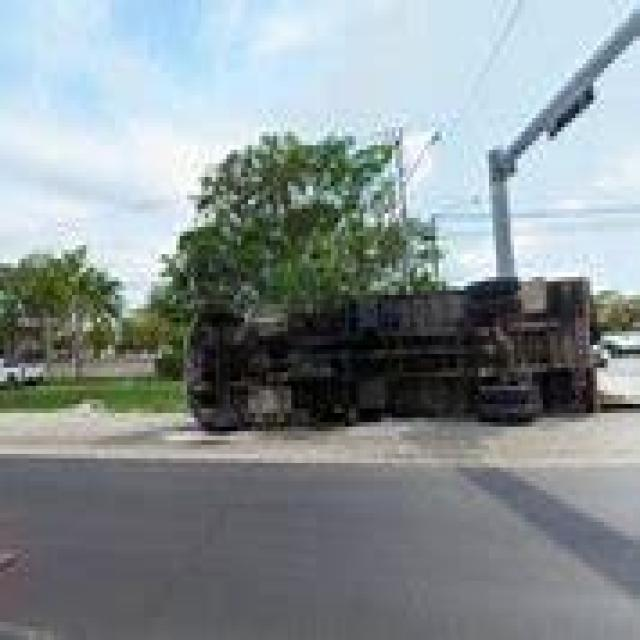Nguy hiểm: (160, 272, 620, 450)
